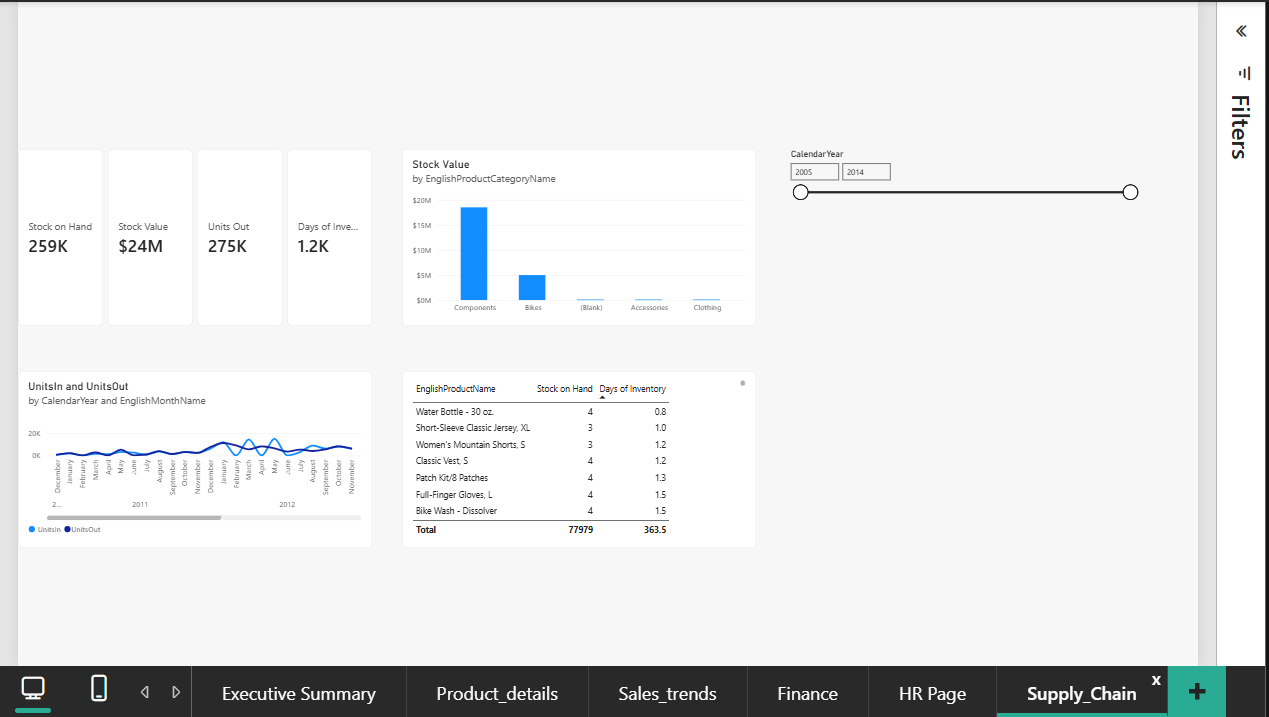

Layout of this report page (visuals, bound fields, positions):
{"tool":"powerbi","page":{"name":"Supply_Chain","canvas":[1920,1080],"ordinal":5},"visuals":[{"type":"cardVisual","fields":{"Data":["Inventory.Stock on Hand","Inventory.Stock Value","Inventory.Units Out","Inventory.Days of Inventory"]},"box":[0,240,576,288],"z":0},{"type":"lineChart","fields":{"Category":["Date.CalendarYear","Date.EnglishMonthName"],"Y":["Sum(Inventory.UnitsIn)","Sum(Inventory.UnitsOut)"]},"box":[0,600,576,288],"z":1},{"type":"clusteredColumnChart","fields":{"Category":["Product.EnglishProductCategoryName"],"Y":["Inventory.Stock Value"]},"box":[624,240,576,288],"z":2},{"type":"tableEx","fields":{"Values":["Product.EnglishProductName","Inventory.Stock on Hand","Inventory.Days of Inventory"]},"box":[624,600,576,288],"z":3},{"type":"slicer","fields":{"Values":["Date.CalendarYear"]},"box":[1248,240,576,288],"z":4}]}

Visuals, with their boxes on the page's 1920x1080 design canvas (x1, y1, x2, y2). These are canvas units, not pixel positions in the 1269x717 screenshot, which may show the page scaled, cropped or inside an application window:
cardVisual - Inventory.Stock on Hand x Inventory.Stock Value: locate(0, 240, 576, 528)
lineChart - Date.CalendarYear x Date.EnglishMonthName: locate(0, 600, 576, 888)
clusteredColumnChart - Product.EnglishProductCategoryName x Inventory.Stock Value: locate(624, 240, 1200, 528)
tableEx - Product.EnglishProductName x Inventory.Stock on Hand: locate(624, 600, 1200, 888)
slicer - Date.CalendarYear: locate(1248, 240, 1824, 528)
